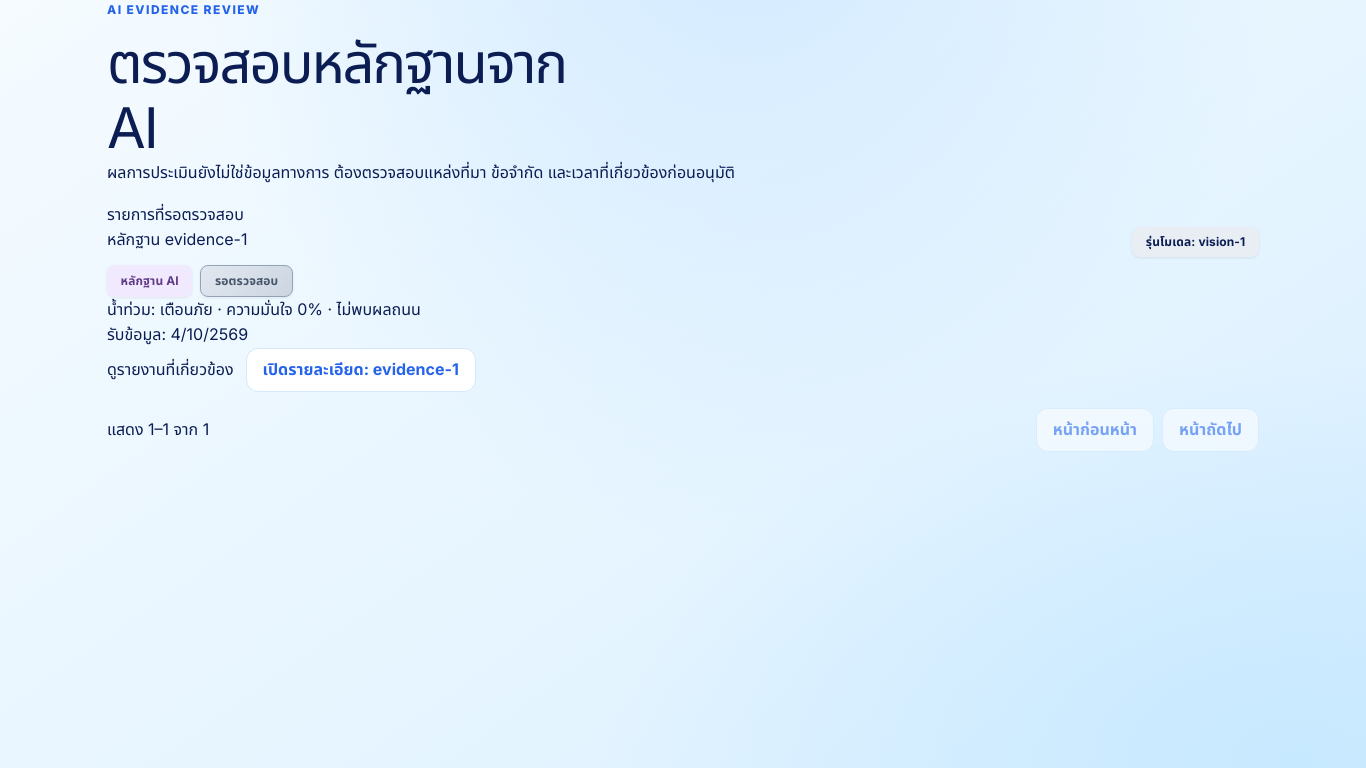
AIEvidenceReview › renders source, zero confidence, limitations, timestamps, and a safe report link
Check: the text "vision-1" is shown, box left=1146, top=234, right=1245, bottom=249
Check: the text "หลักฐาน AI" is shown, box left=107, top=265, right=192, bottom=297
Click the button "เปิดรายละเอียด: evidence-1" at (361, 370), box left=246, top=348, right=476, bottom=392
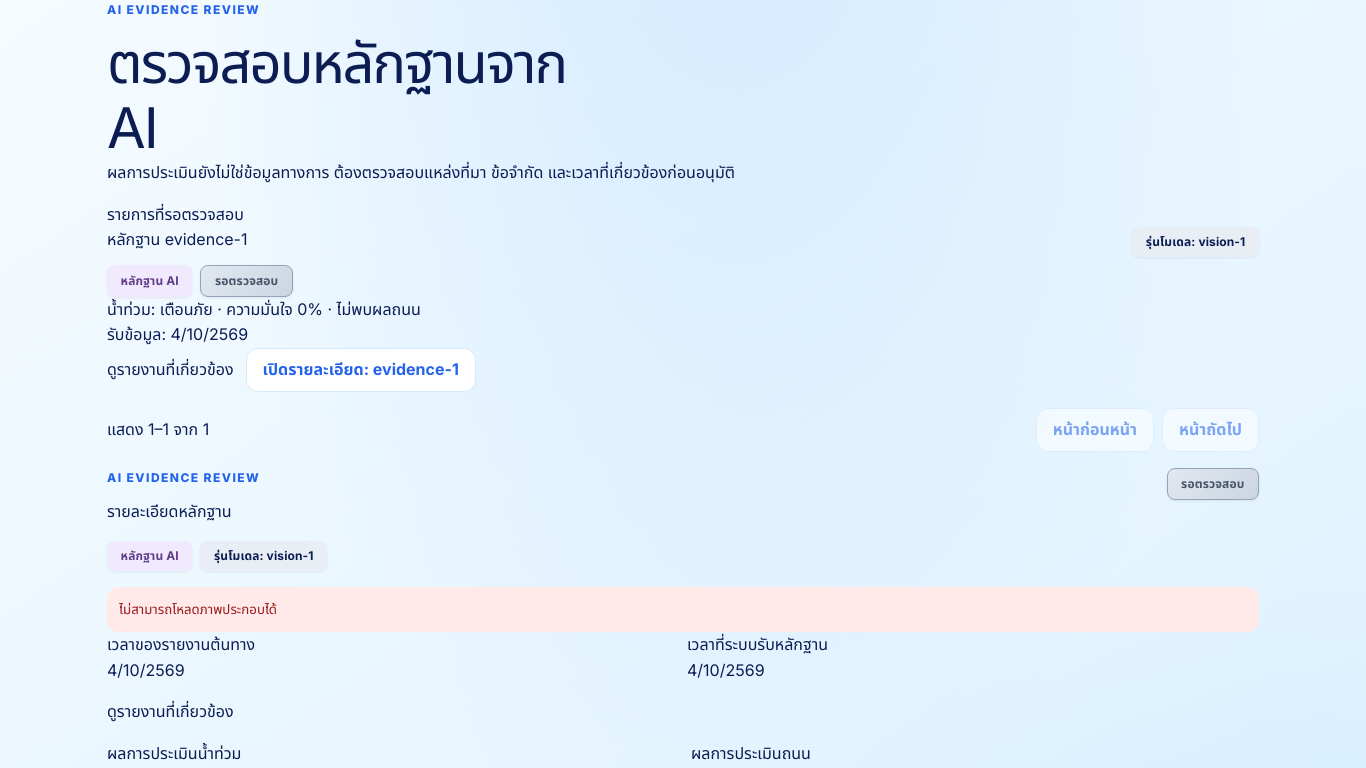
Check: the heading "รายละเอียดหลักฐาน" is shown, box left=107, top=501, right=232, bottom=521
Check: the text "เวลาของรายงานต้นทาง" is shown, box left=107, top=634, right=255, bottom=654
